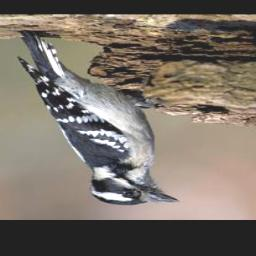Woodpecker: (16, 28, 179, 209)
